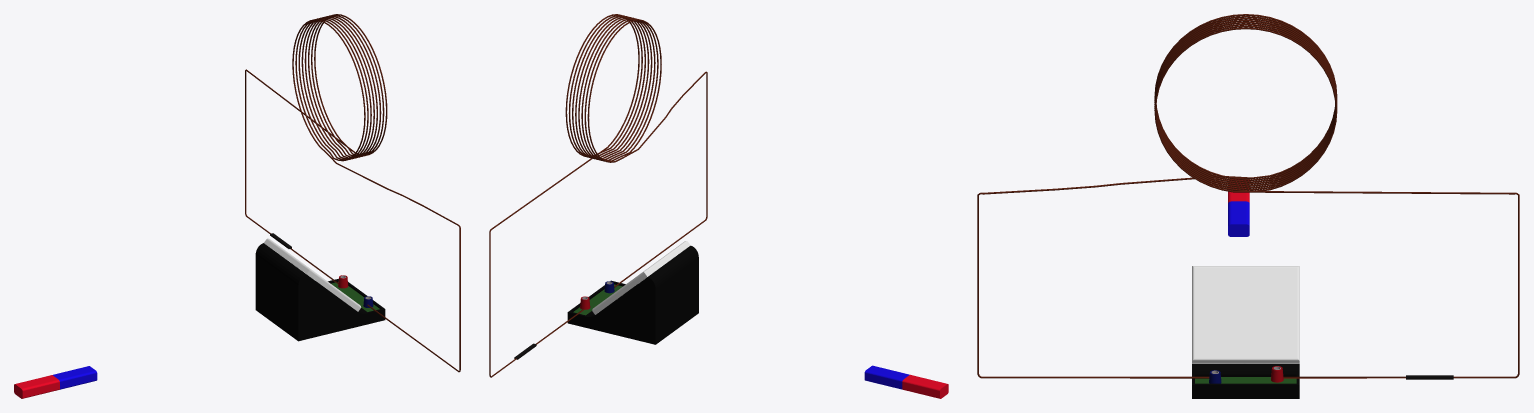
File: emi1.fbx
3 renders of one model, left to right at view 1: azimuth 30°, elevation 25°; view 2: azimuth 150°, elevation 25°; view 3: azimuth 270°, elevation 25°, orthographic. The views are drawn at different scales.
Parts seen in each view (by area): view 1: Body, Coil, Lid, North, South; view 2: Coil, Body, Lid, North, South; view 3: Lid, Coil, Body, South.
Part boxes in pixels (x1,y1,x2,y2): Body: (255, 243, 385, 341); Coil: (245, 14, 460, 372); Lid: (264, 238, 361, 311); North: (14, 375, 59, 398); South: (53, 366, 97, 389); Coil: (489, 14, 707, 377); Body: (567, 245, 698, 344); Lid: (592, 241, 690, 314); North: (902, 374, 948, 398); South: (864, 365, 909, 389); Lid: (1192, 266, 1299, 363); Coil: (977, 14, 1519, 378); Body: (1192, 364, 1299, 398); South: (1228, 201, 1249, 236).
Size of the model in its own units: 942 by 758 by 1008.
